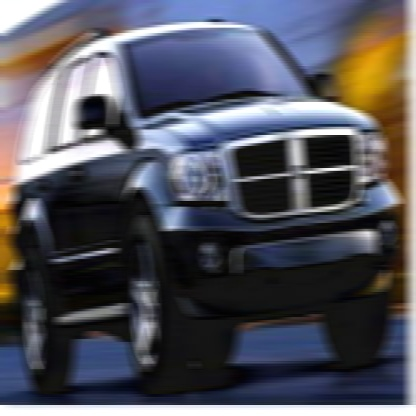Vehicle: (13, 17, 403, 391)
